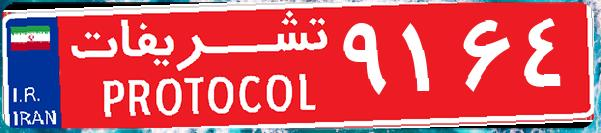1: (400, 20, 460, 115)
4: (520, 20, 580, 115)
6: (460, 20, 520, 115)
9: (340, 20, 400, 115)
تشریفات: (60, 8, 340, 125)
